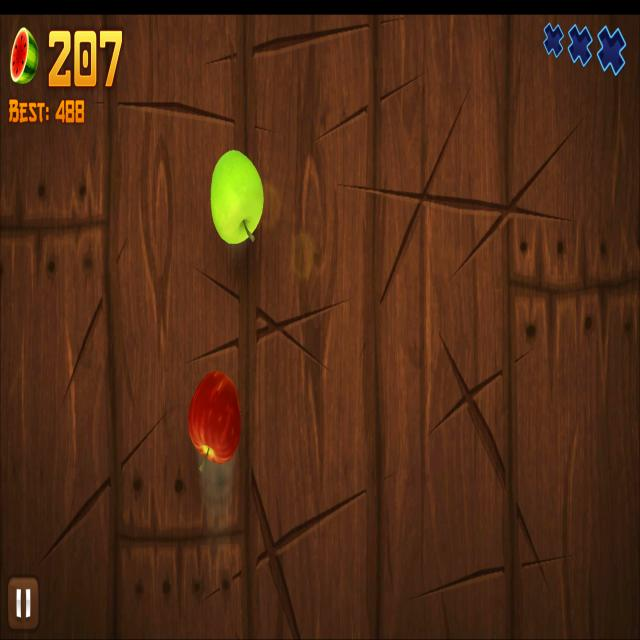fruit: (210, 148, 264, 245), (188, 370, 242, 464)
